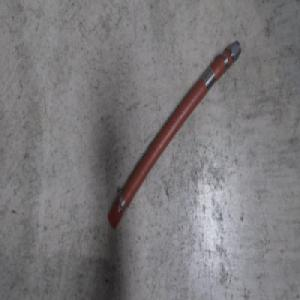Hose: (106, 36, 241, 231)
